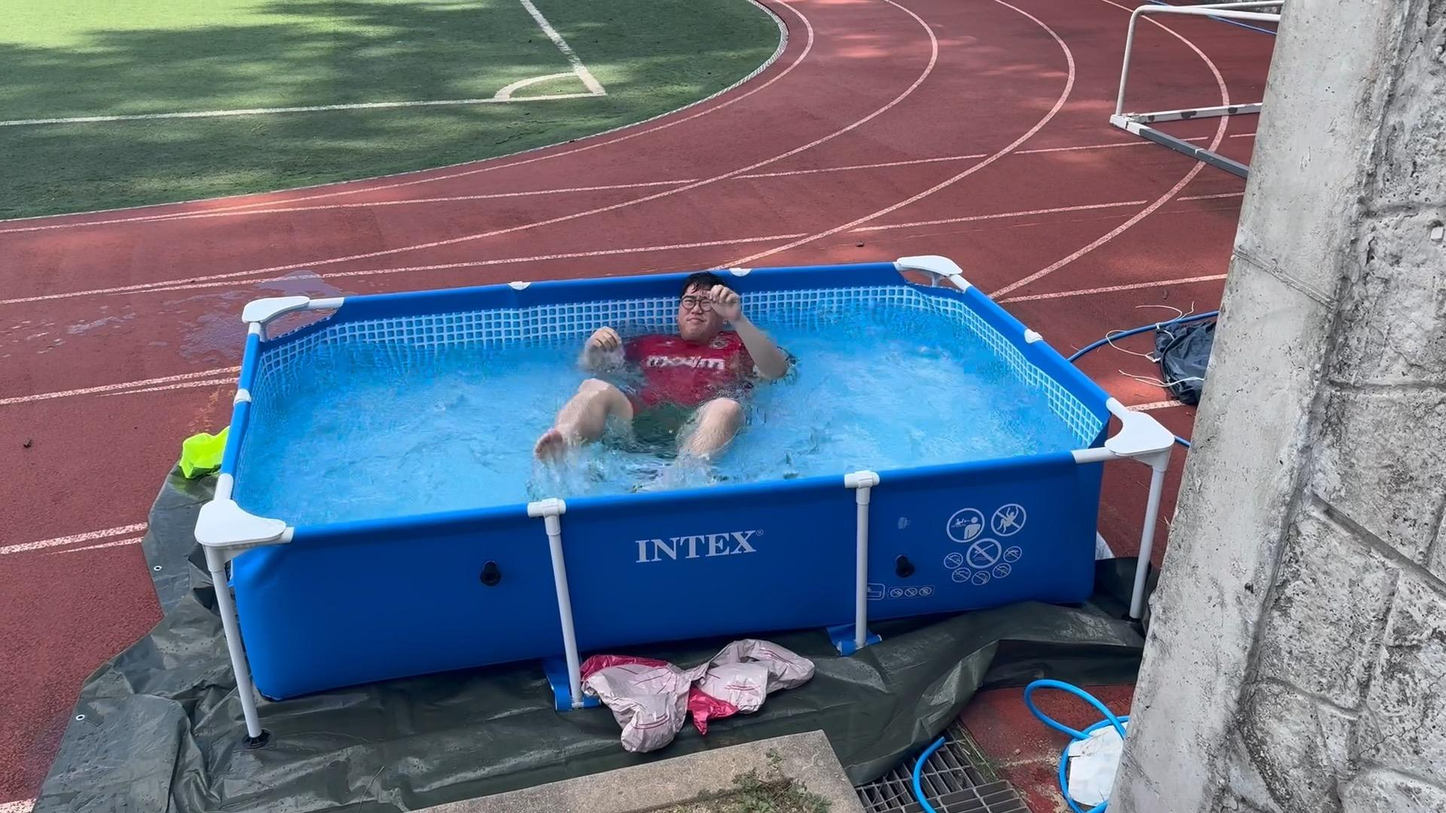Drowning: (517, 268, 817, 483)
